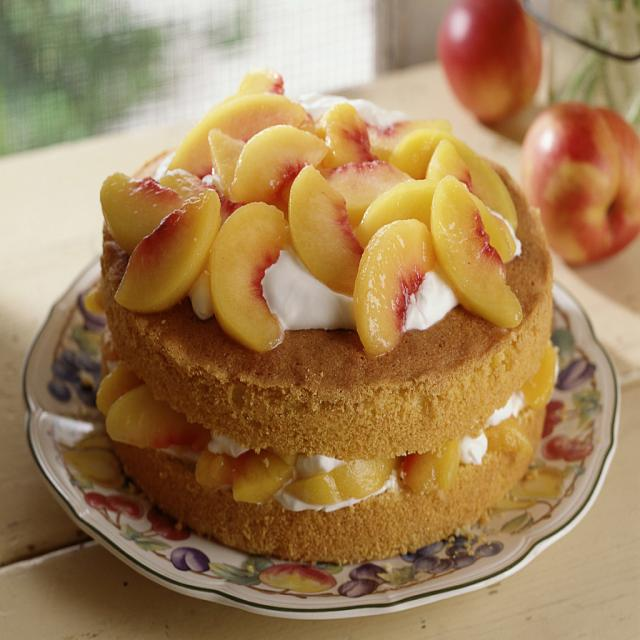Peach: (98, 68, 523, 356), (520, 99, 640, 267), (438, 0, 543, 125), (105, 382, 207, 447), (287, 458, 400, 504), (402, 442, 460, 496), (232, 450, 291, 502), (520, 340, 556, 412), (95, 358, 136, 414), (195, 444, 235, 487), (485, 417, 531, 454)
